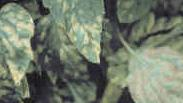Tomato mold leaf: (30, 0, 107, 67), (130, 45, 183, 103), (0, 5, 33, 79)
